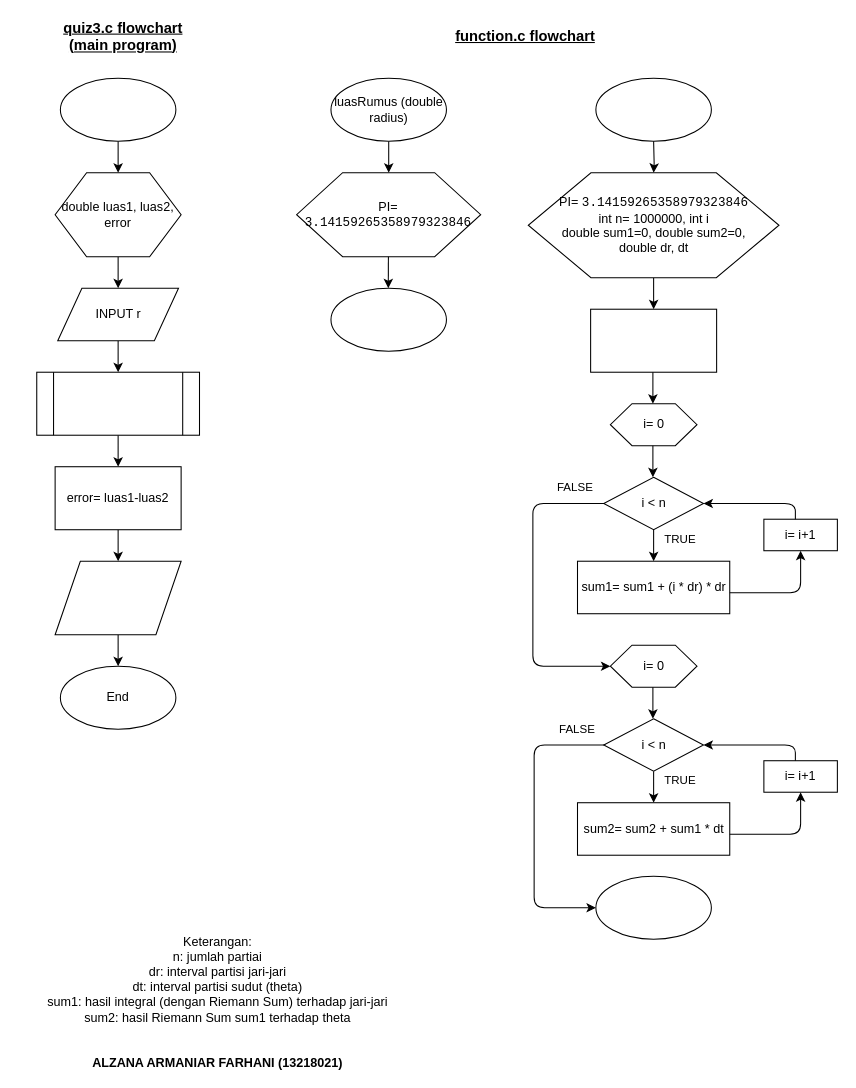
The diagram is 856 pixels wide and 1088 high, and some of its shapes have lost their labels. Here are the shapes that lost their labels. From the top down, the box of each, then its label:
(59, 77, 176, 141): Start
(595, 77, 711, 141): luasRiemann (double radius)
(330, 287, 446, 351): return PI * radius * radius
(590, 308, 717, 372): dr= radius / n dt= 2 * PI / n
(36, 371, 200, 435): luas1= luasRumus(r) luas2= luasRiemann(r)
(54, 560, 181, 635): print(luas1, luas2, error)
(595, 875, 711, 939): return sum2
